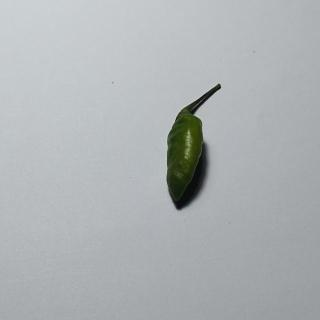Cabai Hijau: (161, 80, 228, 210)
